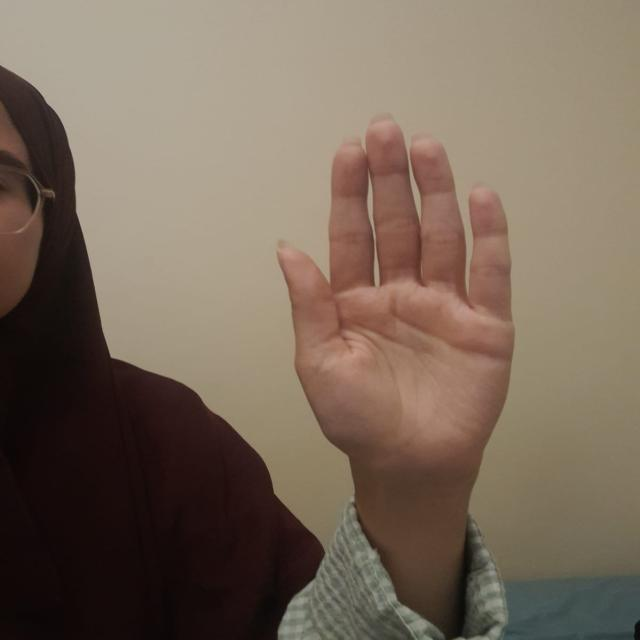Open Hand: (274, 119, 518, 465)
